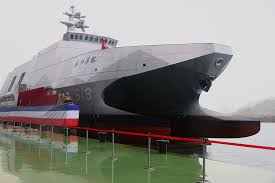tau_muctieu: (1, 18, 256, 139)
